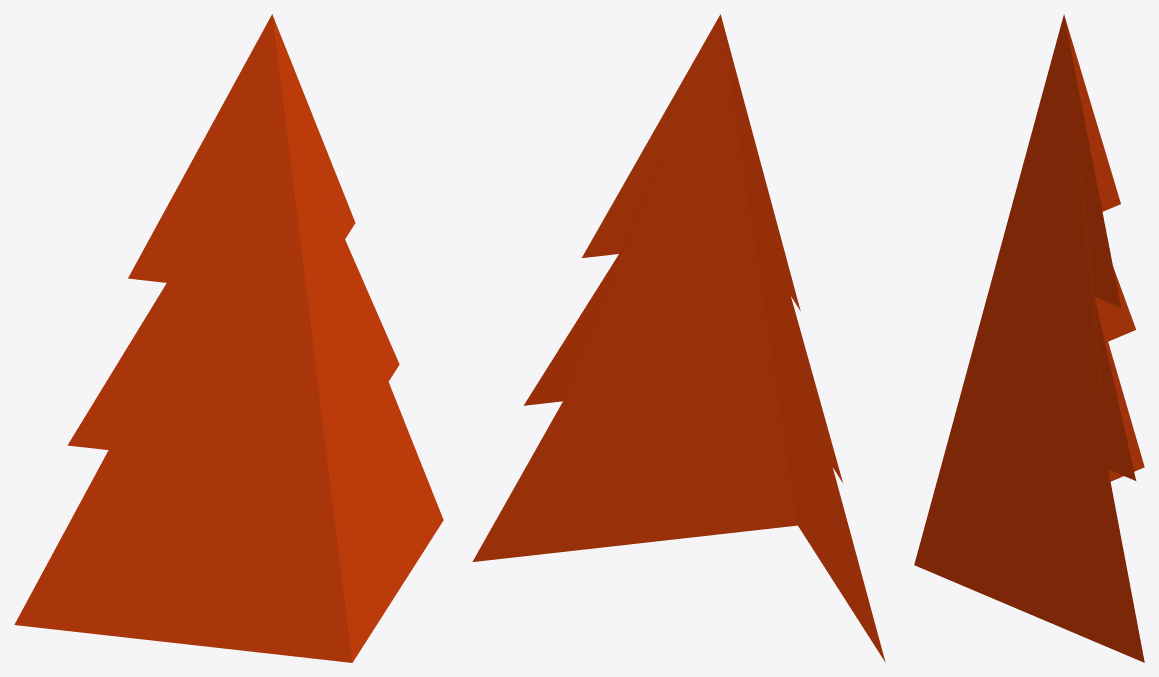
Rendered from tree_2.FBX.
The picture shows the model from 3 angles, left to right: view 1: azimuth 30°, elevation 25°; view 2: azimuth 150°, elevation 25°; view 3: azimuth 270°, elevation 25°; orthographic projection. The views are drawn at different scales.
Visible parts, largest first — view 1: tree_C_v1; view 2: tree_C_v1; view 3: tree_C_v1.
Part boxes in pixels (x1=…): tree_C_v1: x1=14, y1=14, x2=443, y2=662; tree_C_v1: x1=472, y1=14, x2=885, y2=662; tree_C_v1: x1=914, y1=14, x2=1144, y2=662.
Size of the model in its own units: 8685 by 4326 by 11405.
